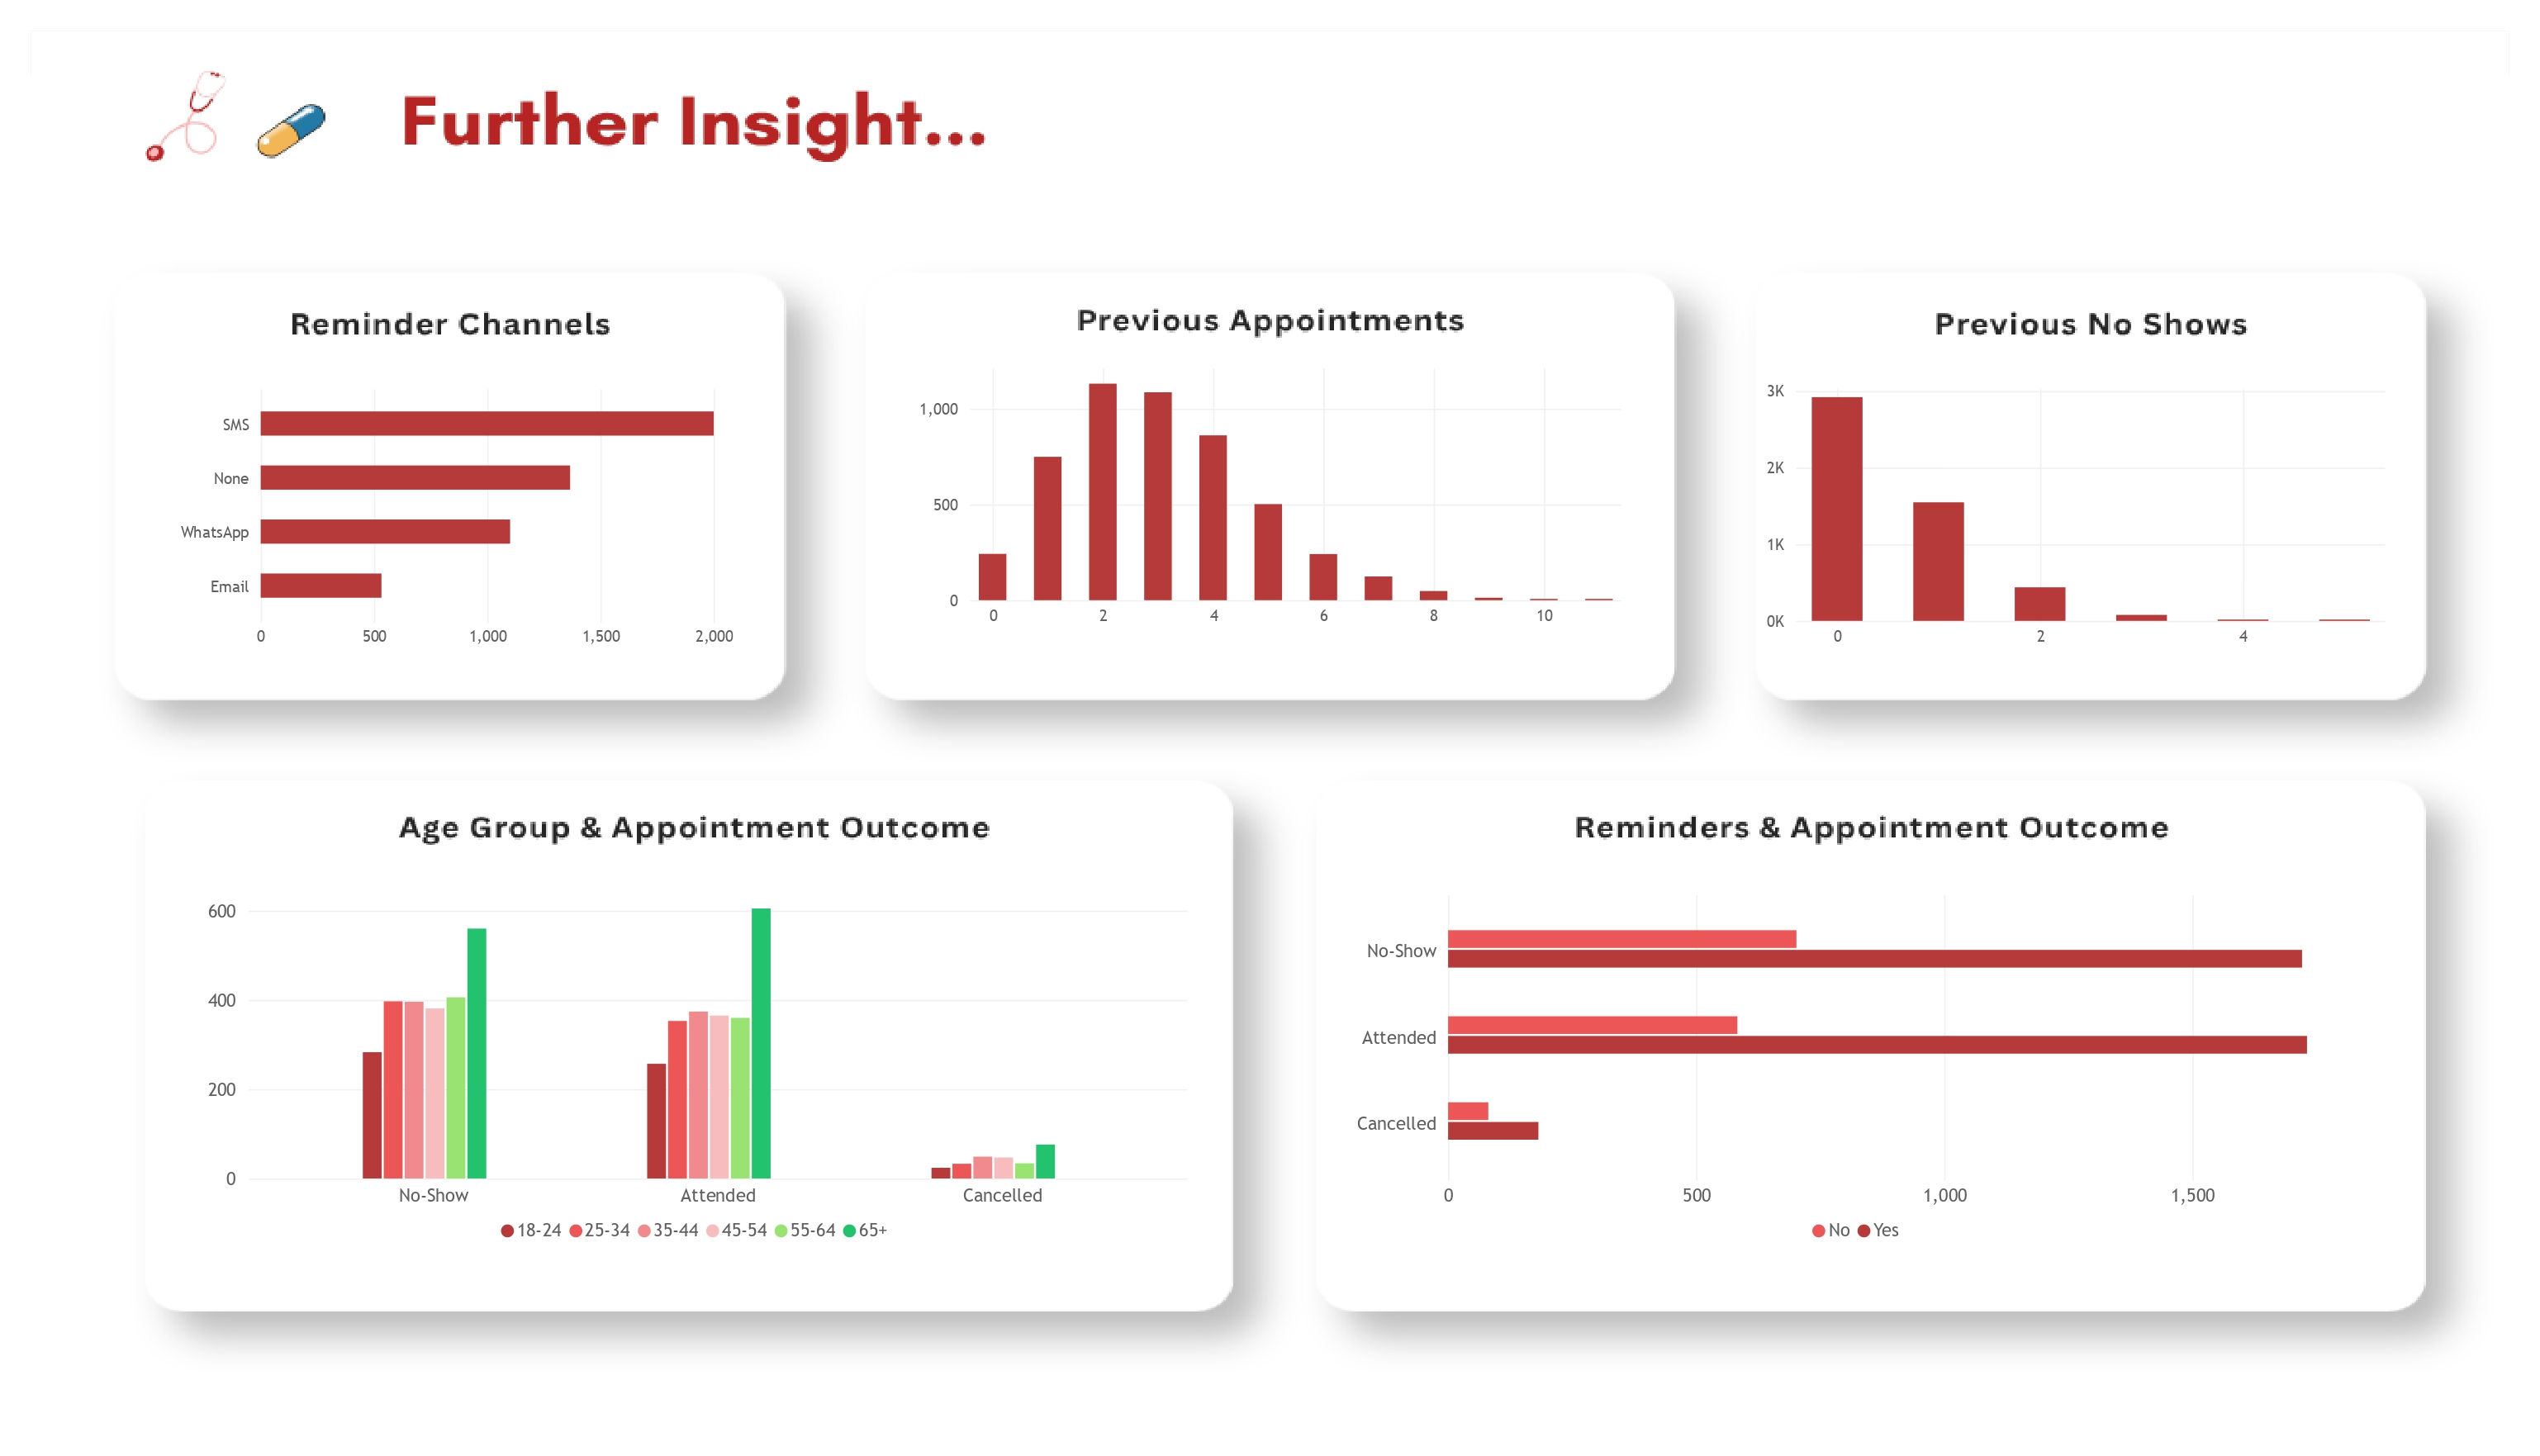

What the dashboard file says about the page in this screenshot:
{"tool":"powerbi","page":{"name":"further insights","canvas":[1920,1080],"ordinal":1},"visuals":[{"type":"clusteredBarChart","fields":{"Category":["HealthConnect_Appointment_Data.reminder_channel"],"Y":["CountNonNull(HealthConnect_Appointment_Data.patient_id)"]},"box":[96,256,464,240],"z":0},{"type":"clusteredColumnChart","fields":{"Category":["HealthConnect_Appointment_Data.previous_appointments"],"Y":["CountNonNull(HealthConnect_Appointment_Data.patient_id)"]},"box":[672,240,576,240],"z":1000},{"type":"clusteredColumnChart","fields":{"Category":["HealthConnect_Appointment_Data.previous_no_shows"],"Y":["CountNonNull(HealthConnect_Appointment_Data.patient_id)"]},"box":[1328,256,512,240],"z":2000},{"type":"clusteredColumnChart","fields":{"Category":["HealthConnect_Appointment_Data.appointment_outcome"],"Series":["HealthConnect_Appointment_Data.age_group"],"Y":["CountNonNull(HealthConnect_Appointment_Data.patient_id)"]},"box":[120,624,792,336],"z":3000},{"type":"clusteredBarChart","fields":{"Category":["HealthConnect_Appointment_Data.appointment_outcome"],"Series":["HealthConnect_Appointment_Data.reminder_sent"],"Y":["CountNonNull(HealthConnect_Appointment_Data.appointment_id)"]},"box":[1008,648,816,312],"z":4000}]}

Visuals, with their boxes on the page's 1920x1080 design canvas (x1, y1, x2, y2). These are canvas units, not pixel positions in the 2540x1456 screenshot, which may show the page scaled, cropped or inside an application window:
clusteredBarChart - HealthConnect_Appointment_Data.reminder_channel x CountNonNull(HealthConnect_Appointment_Data.patient_id): <bbox>96, 256, 560, 496</bbox>
clusteredColumnChart - HealthConnect_Appointment_Data.previous_appointments x CountNonNull(HealthConnect_Appointment_Data.patient_id): <bbox>672, 240, 1248, 480</bbox>
clusteredColumnChart - HealthConnect_Appointment_Data.previous_no_shows x CountNonNull(HealthConnect_Appointment_Data.patient_id): <bbox>1328, 256, 1840, 496</bbox>
clusteredColumnChart - HealthConnect_Appointment_Data.appointment_outcome x HealthConnect_Appointment_Data.age_group: <bbox>120, 624, 912, 960</bbox>
clusteredBarChart - HealthConnect_Appointment_Data.appointment_outcome x HealthConnect_Appointment_Data.reminder_sent: <bbox>1008, 648, 1824, 960</bbox>
